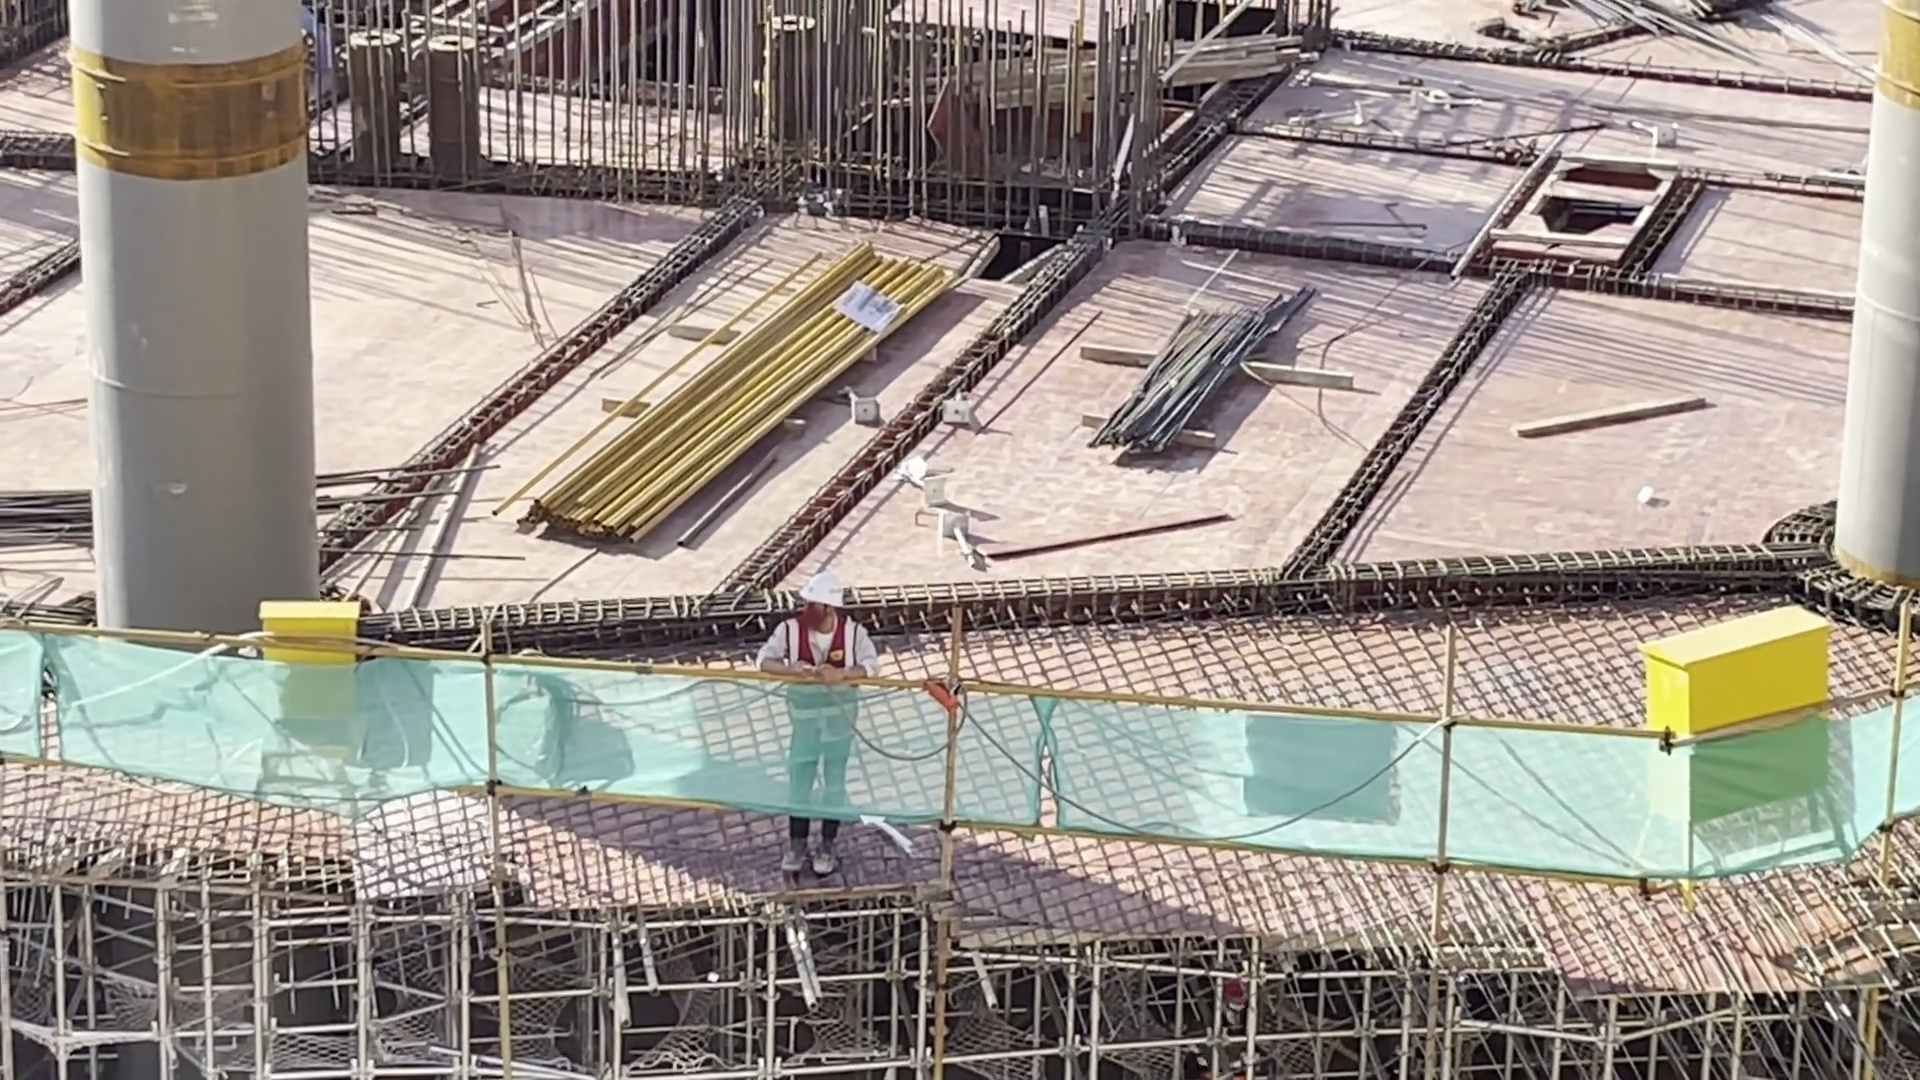helmet: (783, 568, 849, 611)
person: (738, 560, 874, 874)
vest: (786, 622, 861, 739)
